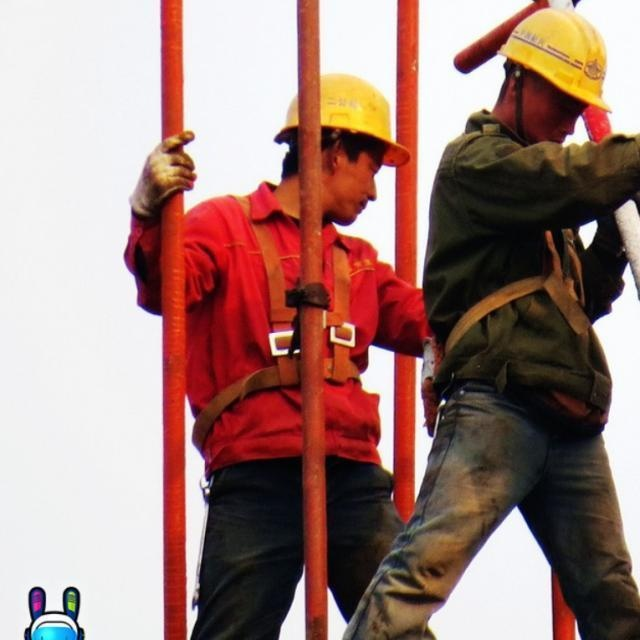Arnes_seguridad: (187, 188, 372, 441), (437, 154, 592, 352)
